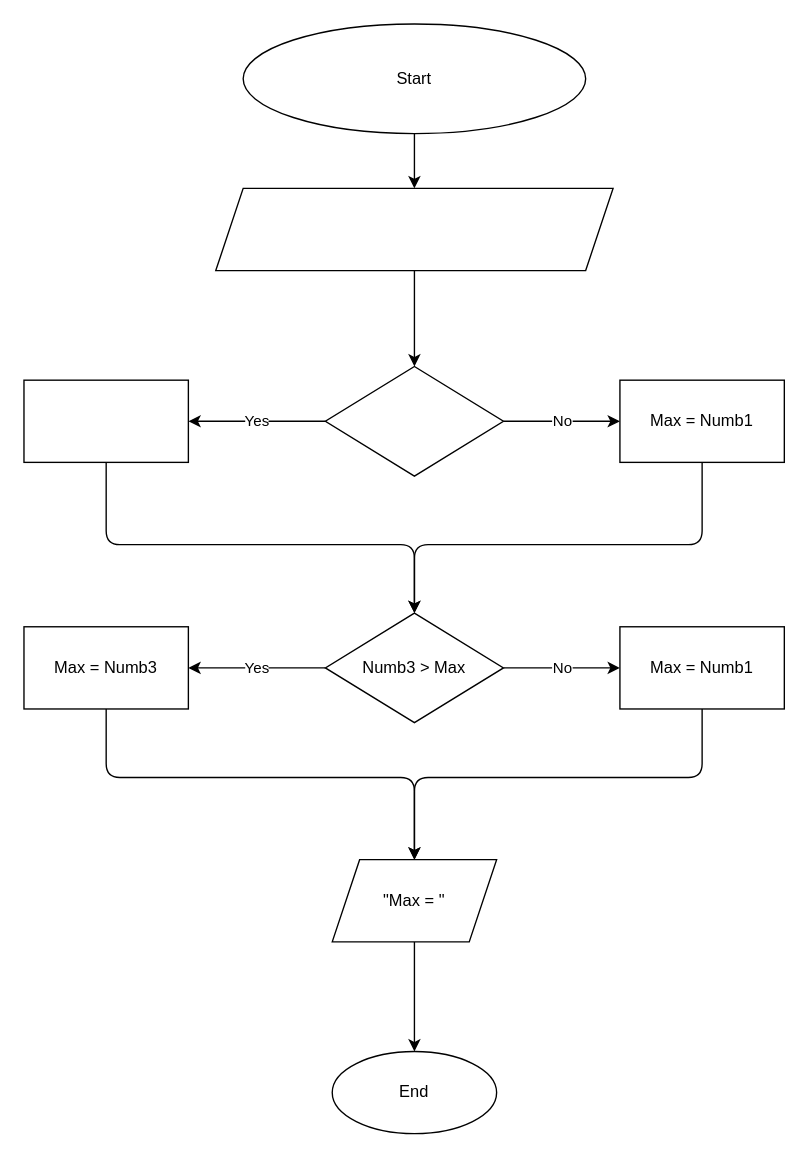
Some shapes in this 808 by 1158 pixel diagram are drawn without their labels. The centre of each missing label's shape, as x and y in pixels:
"Max = Numb2" goes at point (105, 420).
"Numb2 > Max" goes at point (413, 420).
"Воод чисел Numb1, Numb2, Numb3 Присвоение Max = Numb1" goes at point (413, 229).
